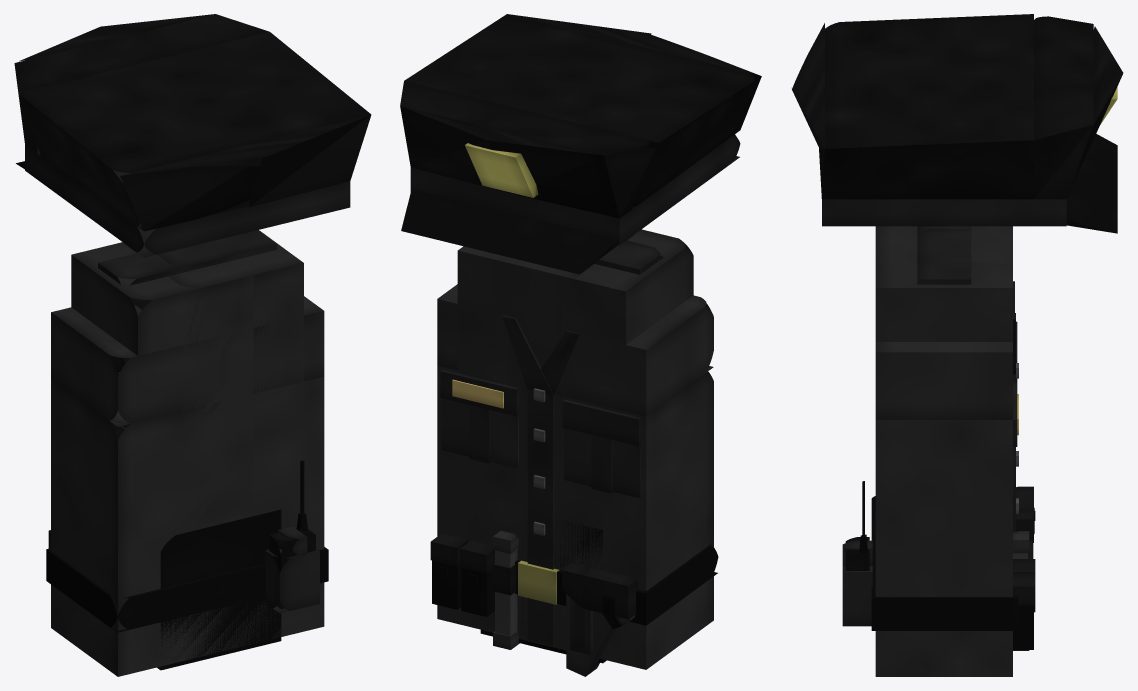
The model's file is nypd2.obj.
The picture shows the model from 3 angles, left to right: view 1: azimuth 30°, elevation 25°; view 2: azimuth 150°, elevation 25°; view 3: azimuth 270°, elevation 25°; orthographic projection. The views are drawn at different scales.
Parts seen in each view (by area): view 1: bodyModel0, headModel5, rightArmModel1, headModel2, bodyModel1, leftBootModel0, leftArmModel1, headModel0, bodyModel10, headModel3, bodyModel2, bodyModel46 (+4 smaller); view 2: bodyModel0, headModel5, rightArmModel1, leftArmModel1, bodyModel1, headModel4, headModel1, headModel3, headModel0, bodyModel3, bodyModel10, bodyModel18 (+26 smaller); view 3: headModel5, bodyModel0, bodyModel2, leftArmModel1, headModel3, headModel0, bodyModel10, headModel1, rightArmModel1, headModel2, headModel4, leftArmModel4 (+5 smaller).
Part boxes in pixels (x1=…): bodyModel0: x1=51, y1=376, x2=324, y2=676; headModel5: x1=18, y1=32, x2=370, y2=230; rightArmModel1: x1=71, y1=242, x2=253, y2=527; headModel2: x1=120, y1=115, x2=371, y2=231; bodyModel1: x1=51, y1=307, x2=220, y2=426; leftBootModel0: x1=157, y1=509, x2=281, y2=670; leftArmModel1: x1=122, y1=230, x2=303, y2=499; headModel0: x1=25, y1=144, x2=350, y2=257; bodyModel10: x1=46, y1=547, x2=328, y2=632; headModel3: x1=14, y1=14, x2=269, y2=152; bodyModel2: x1=221, y1=296, x2=324, y2=393; bodyModel46: x1=265, y1=548, x2=319, y2=613; bodyModel0: x1=437, y1=365, x2=713, y2=669; headModel5: x1=404, y1=14, x2=758, y2=206; rightArmModel1: x1=508, y1=229, x2=693, y2=407; leftArmModel1: x1=457, y1=235, x2=634, y2=394; bodyModel1: x1=555, y1=295, x2=713, y2=416; headModel4: x1=400, y1=106, x2=616, y2=216; headModel1: x1=401, y1=189, x2=618, y2=274; headModel3: x1=400, y1=81, x2=655, y2=218; headModel0: x1=410, y1=134, x2=740, y2=245; bodyModel3: x1=527, y1=389, x2=554, y2=645; bodyModel10: x1=515, y1=544, x2=718, y2=625; bodyModel18: x1=441, y1=398, x2=518, y2=468; headModel5: x1=822, y1=14, x2=1033, y2=199; bodyModel0: x1=875, y1=420, x2=1012, y2=676; bodyModel2: x1=875, y1=342, x2=1012, y2=419; leftArmModel1: x1=875, y1=252, x2=1012, y2=341; headModel3: x1=1034, y1=16, x2=1093, y2=199; headModel0: x1=822, y1=199, x2=1066, y2=226; bodyModel10: x1=871, y1=496, x2=1017, y2=630; headModel1: x1=1066, y1=134, x2=1117, y2=233; rightArmModel1: x1=875, y1=226, x2=1012, y2=262; headModel2: x1=792, y1=23, x2=824, y2=198; headModel4: x1=1067, y1=26, x2=1123, y2=196; leftArmModel4: x1=917, y1=229, x2=971, y2=284.
Size of the model in its own units: 10 by 20.95 by 11.15.
